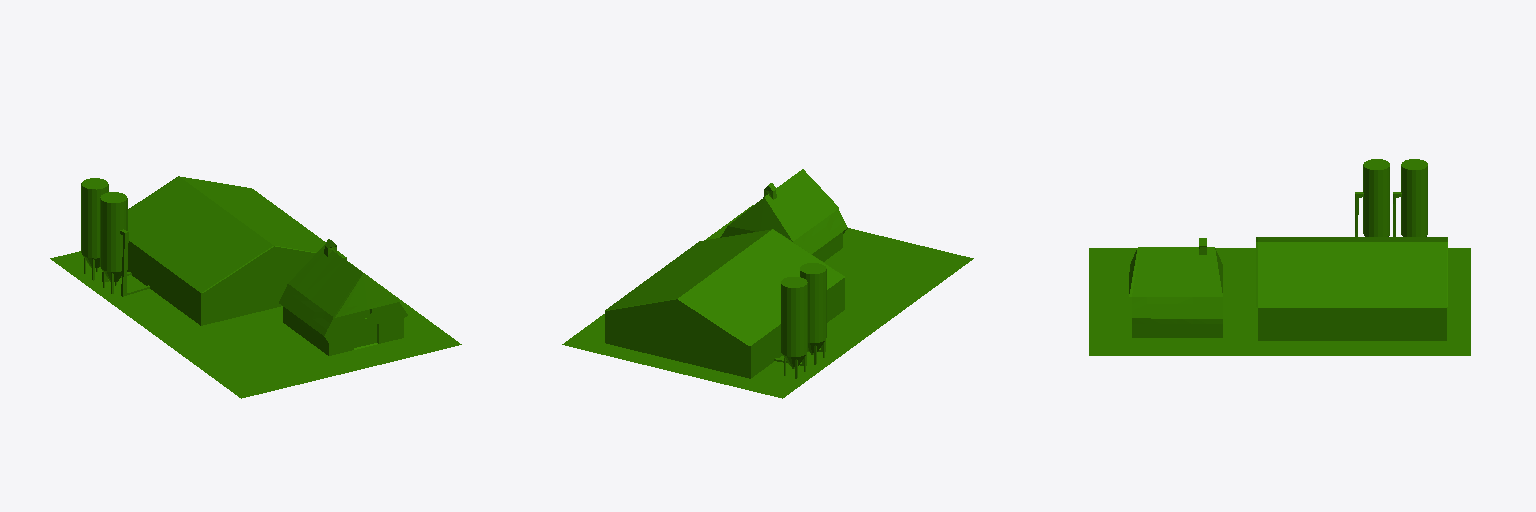
File: farm.obj
3 views of the same model, side by side, from view 1: azimuth 30°, elevation 25°; view 2: azimuth 150°, elevation 25°; view 3: azimuth 270°, elevation 25° (orthographic).
Parts seen in each view (by area): view 1: Box005; view 2: Box005; view 3: Box005.
Part boxes in pixels (left/top/right/bottom): Box005: left=50, top=176, right=461, bottom=398; Box005: left=562, top=169, right=973, bottom=398; Box005: left=1089, top=159, right=1470, bottom=355.
Bounding box in the file's own units: 236 × 93.49 × 355.